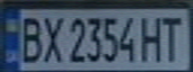2: (66, 14, 87, 63)
3: (84, 14, 106, 63)
4: (118, 12, 142, 63)
5: (100, 14, 121, 63)
B: (15, 12, 45, 63)
H: (139, 12, 166, 63)
T: (157, 12, 187, 62)
X: (39, 12, 66, 64)
